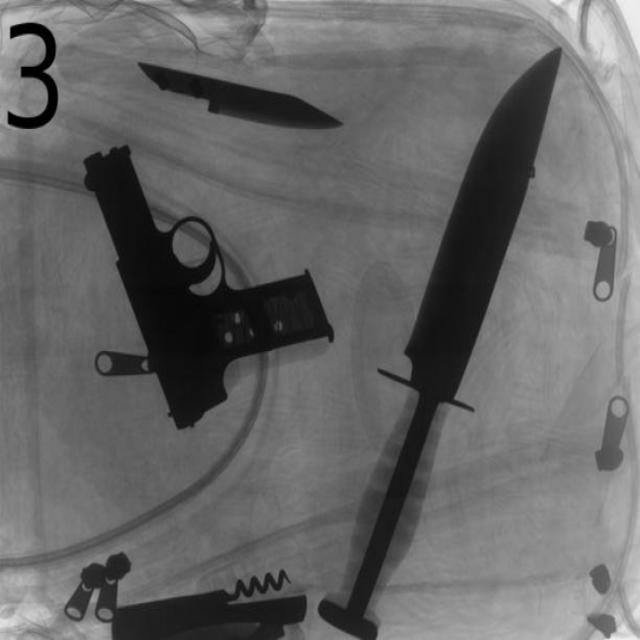GUN: (85, 143, 332, 431)
KNIFE: (135, 49, 348, 145)
